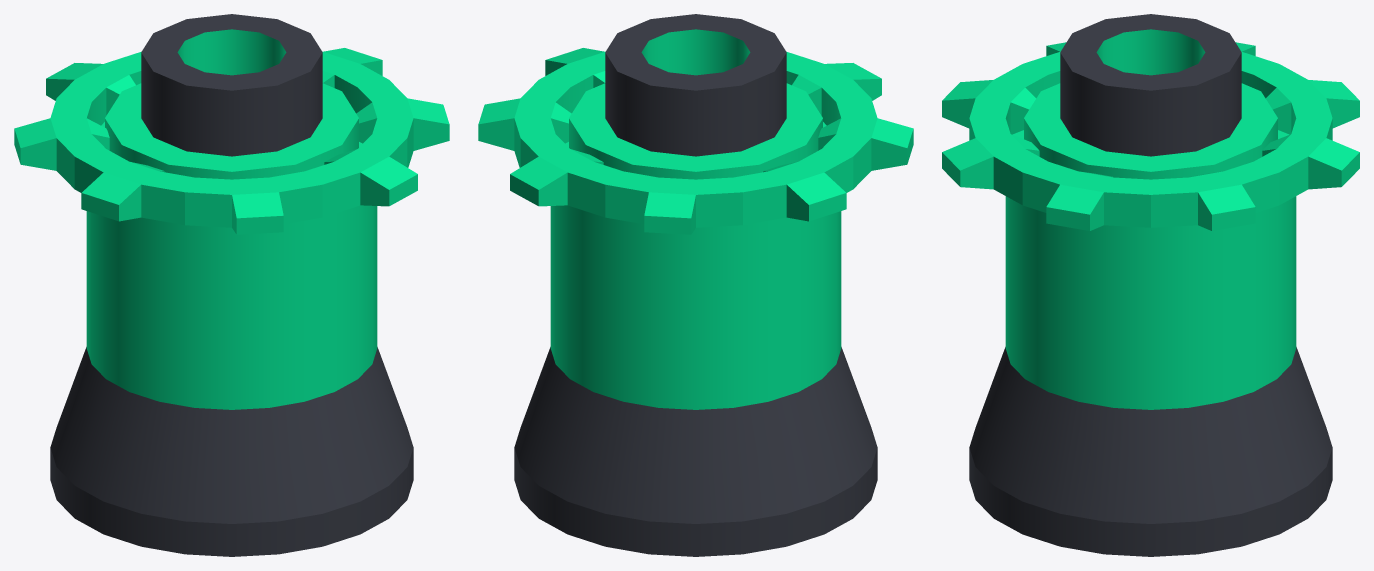
File: resource.fbx
3 renders of one model, left to right at view 1: azimuth 30°, elevation 25°; view 2: azimuth 150°, elevation 25°; view 3: azimuth 270°, elevation 25°, orthographic.
Parts seen in each view (by area): view 1: pipe_largeBase, ring_innerOuter, piston_baseSmall; view 2: pipe_largeBase, ring_innerOuter, piston_baseSmall; view 3: pipe_largeBase, ring_innerOuter, piston_baseSmall.
Boxes of the visible parts, <box> form: pipe_largeBase: <box>50,122,413,556</box>; ring_innerOuter: <box>14,48,449,234</box>; piston_baseSmall: <box>105,14,358,179</box>; pipe_largeBase: <box>514,122,877,556</box>; ring_innerOuter: <box>478,48,913,234</box>; piston_baseSmall: <box>569,14,822,179</box>; pipe_largeBase: <box>969,130,1332,556</box>; ring_innerOuter: <box>942,42,1359,230</box>; piston_baseSmall: <box>1024,14,1277,179</box>.
Size of the model in its own units: 11.51 by 13 by 11.51.
